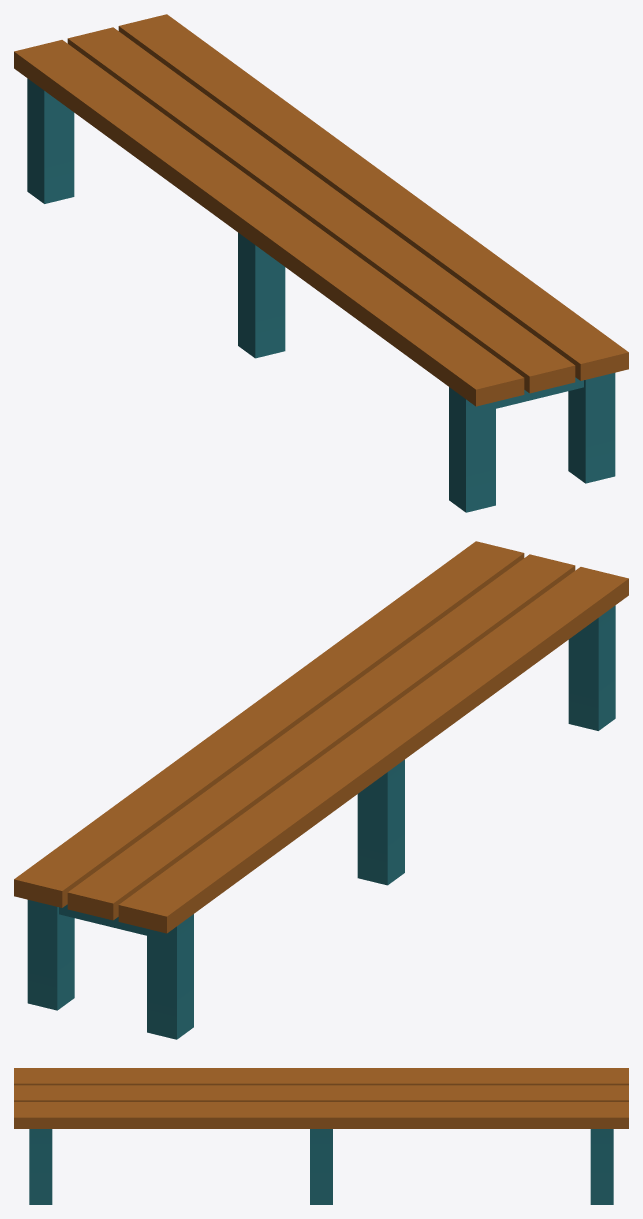
File: Bench_1_E_3.glb
3 renders of one model, top to bottom at view 1: azimuth 30°, elevation 25°; view 2: azimuth 150°, elevation 25°; view 3: azimuth 270°, elevation 25°, orthographic. The views are drawn at different scales.
Visible parts, largest first — view 1: Bench_1_E_3; view 2: Bench_1_E_3; view 3: Bench_1_E_3.
Part boxes in pixels (<box>): Bench_1_E_3: <box>14,14,628,512</box>; Bench_1_E_3: <box>14,541,628,1039</box>; Bench_1_E_3: <box>14,1068,628,1204</box>.
Size of the model in its own units: 0.4068 by 0.3354 by 2.13.
Materials: 2 (2 with a texture image).
